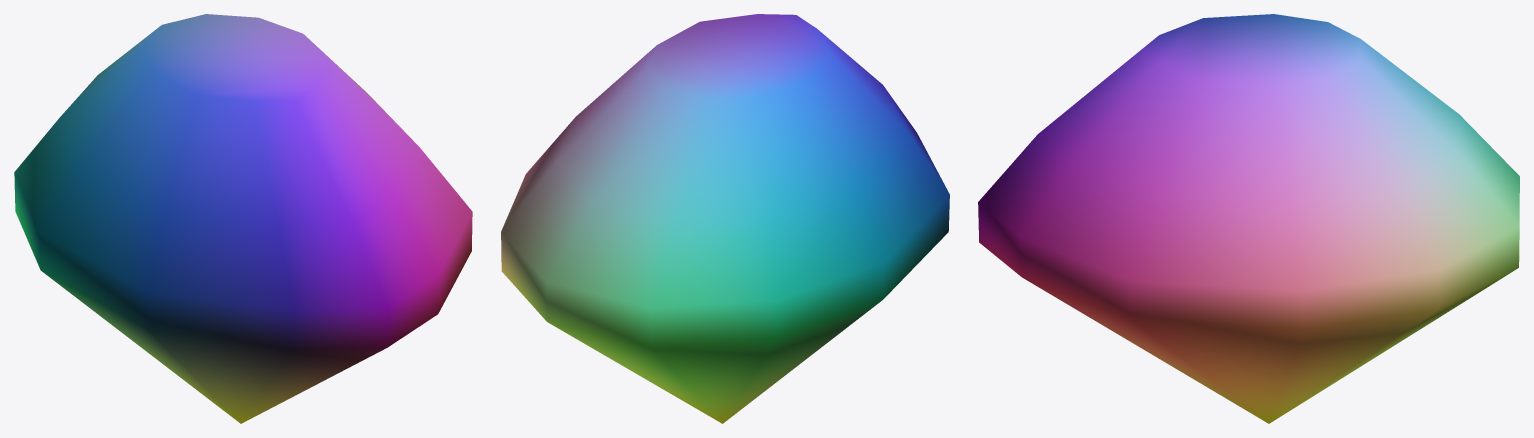
The model's file is SM_Pickup_Gem_Sapphire_3.fbx.
3 views of the same model, side by side, from view 1: azimuth 30°, elevation 25°; view 2: azimuth 150°, elevation 25°; view 3: azimuth 270°, elevation 25° (orthographic). The views are drawn at different scales.
Parts seen in each view (by area): view 1: SM_Pickup_Gem_Sapphire_3; view 2: SM_Pickup_Gem_Sapphire_3; view 3: SM_Pickup_Gem_Sapphire_3.
Part boxes in pixels (box(x1,y1,x2,y2)): SM_Pickup_Gem_Sapphire_3: box(14, 14, 472, 423); SM_Pickup_Gem_Sapphire_3: box(501, 14, 949, 423); SM_Pickup_Gem_Sapphire_3: box(978, 14, 1519, 423).
Size of the model in its own units: 0.1885 by 0.1838 by 0.2444.
